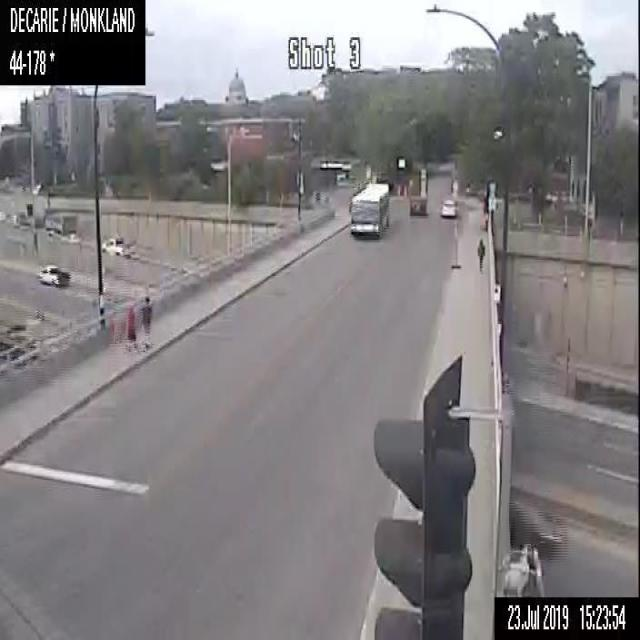bus: (347, 180, 390, 237)
pedestrian: (141, 294, 152, 346), (125, 302, 136, 350), (476, 237, 484, 271)
vehicle: (508, 496, 563, 556), (0, 324, 36, 362), (34, 263, 71, 285), (42, 211, 79, 233), (103, 234, 131, 250), (408, 192, 426, 213), (441, 196, 458, 216), (6, 210, 28, 222)
